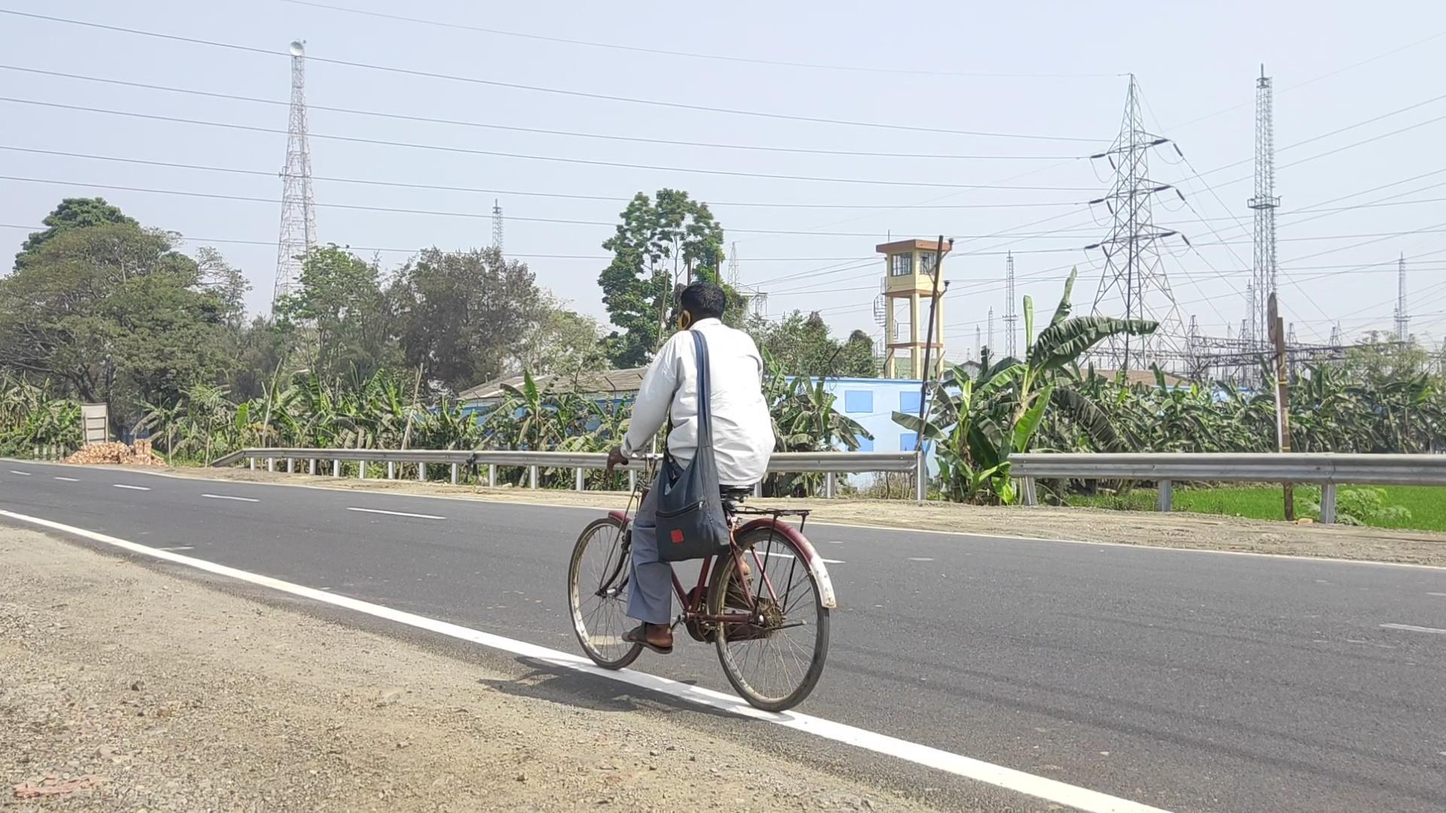bike: (567, 281, 837, 713)
